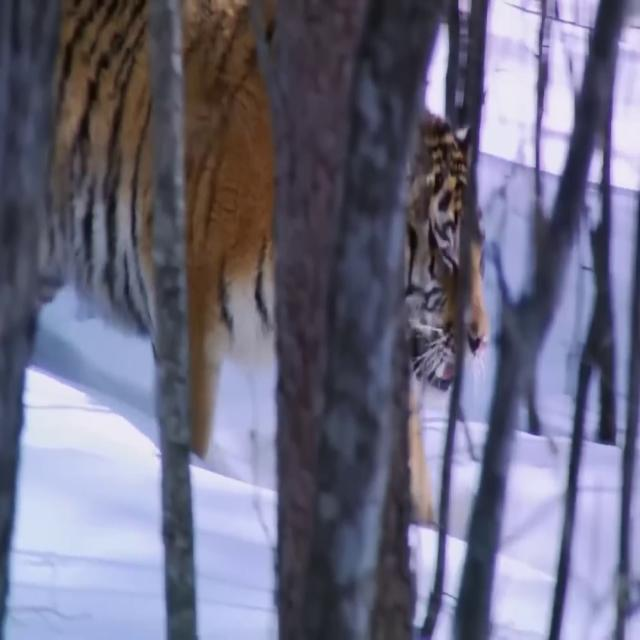tiger: (4, 0, 488, 524)
